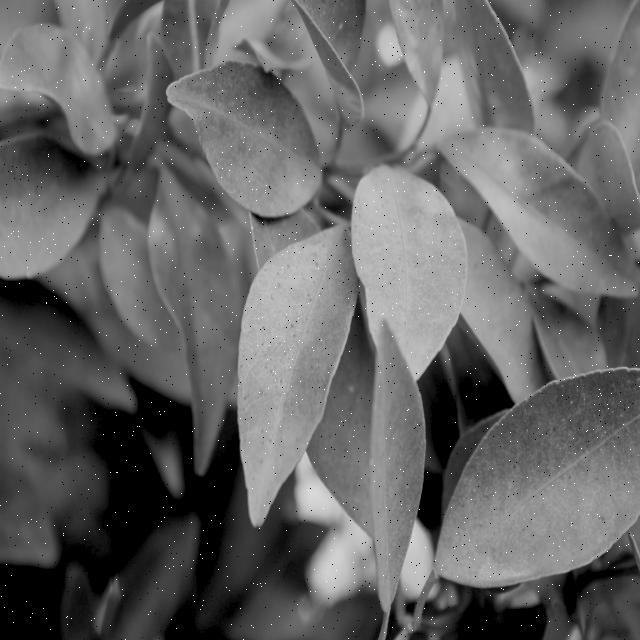blackspot: (445, 384, 629, 580), (230, 240, 338, 514), (362, 188, 450, 346), (309, 373, 366, 512)
